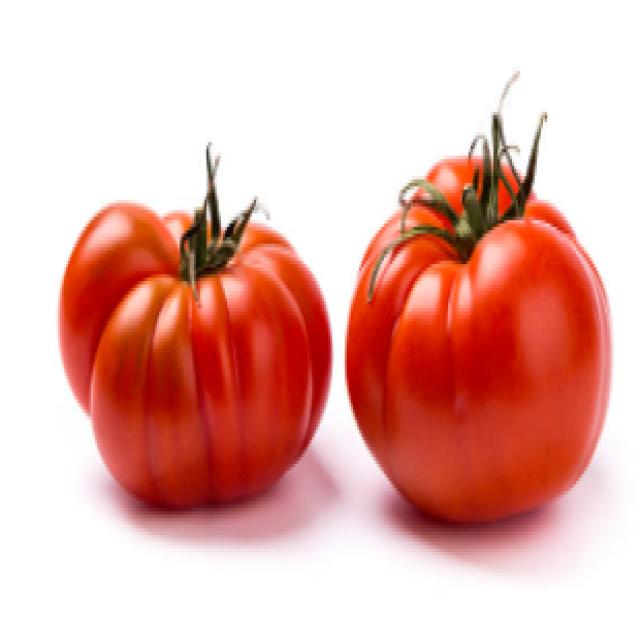Tomato: (358, 139, 610, 521), (66, 167, 338, 499)
